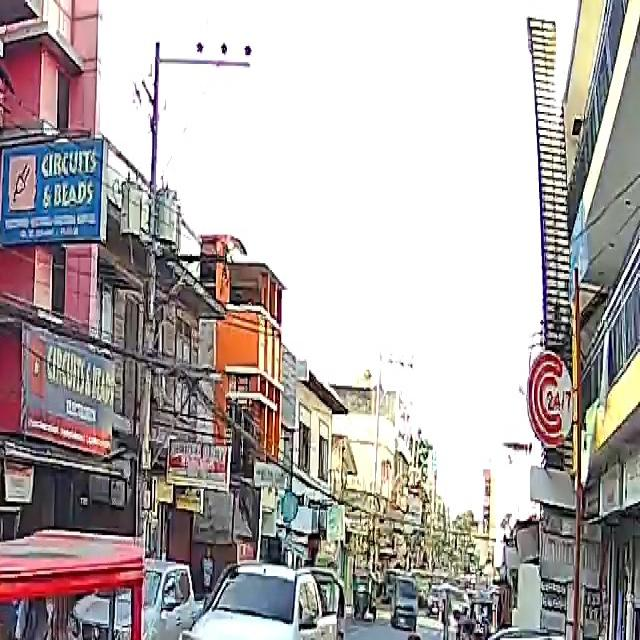car: (173, 553, 351, 640), (145, 562, 193, 640), (470, 626, 638, 640), (388, 577, 419, 632)
